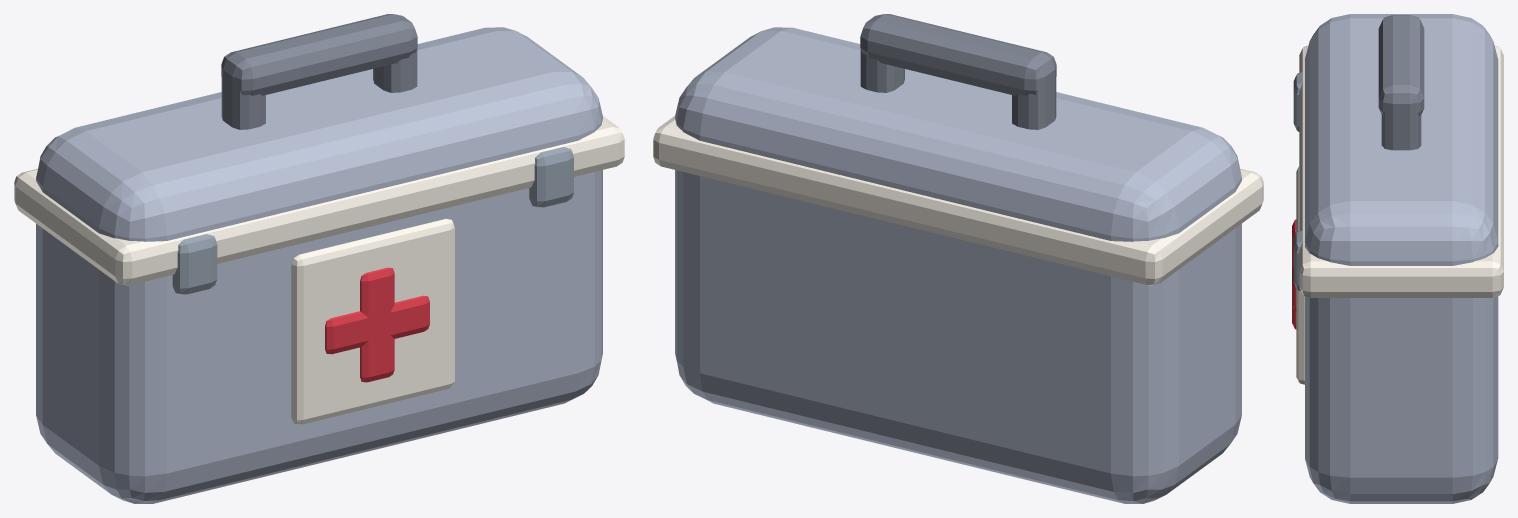
The model's file is kit.glb.
3 renders of one model, left to right at view 1: azimuth 30°, elevation 25°; view 2: azimuth 150°, elevation 25°; view 3: azimuth 270°, elevation 25°, orthographic. The views are drawn at different scales.
Visible parts, largest first — view 1: kit; view 2: kit; view 3: kit.
Part boxes in pixels (left/top/right/bottom): kit: left=14, top=14, right=624, bottom=503; kit: left=653, top=14, right=1263, bottom=503; kit: left=1292, top=14, right=1503, bottom=503.
Bounding box in the file's own units: 0.94 × 0.695 × 0.3725.
